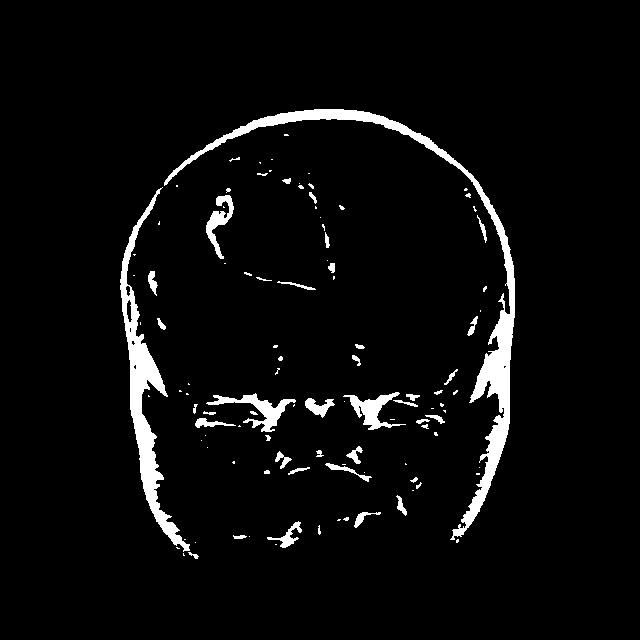Brain-Tumor: (205, 144, 359, 306)
